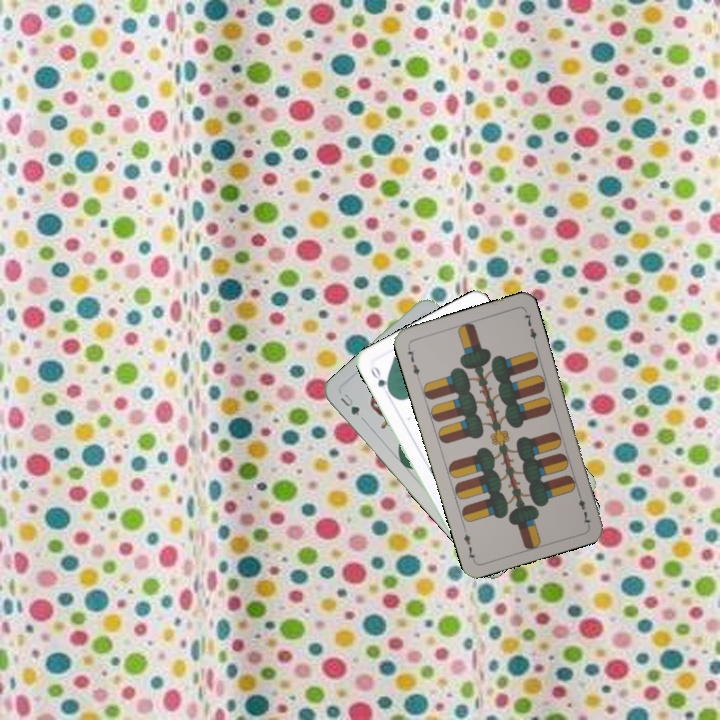E7: (403, 342, 422, 382), (574, 488, 593, 527)
GO: (367, 362, 394, 397)
GU: (336, 389, 362, 419)
